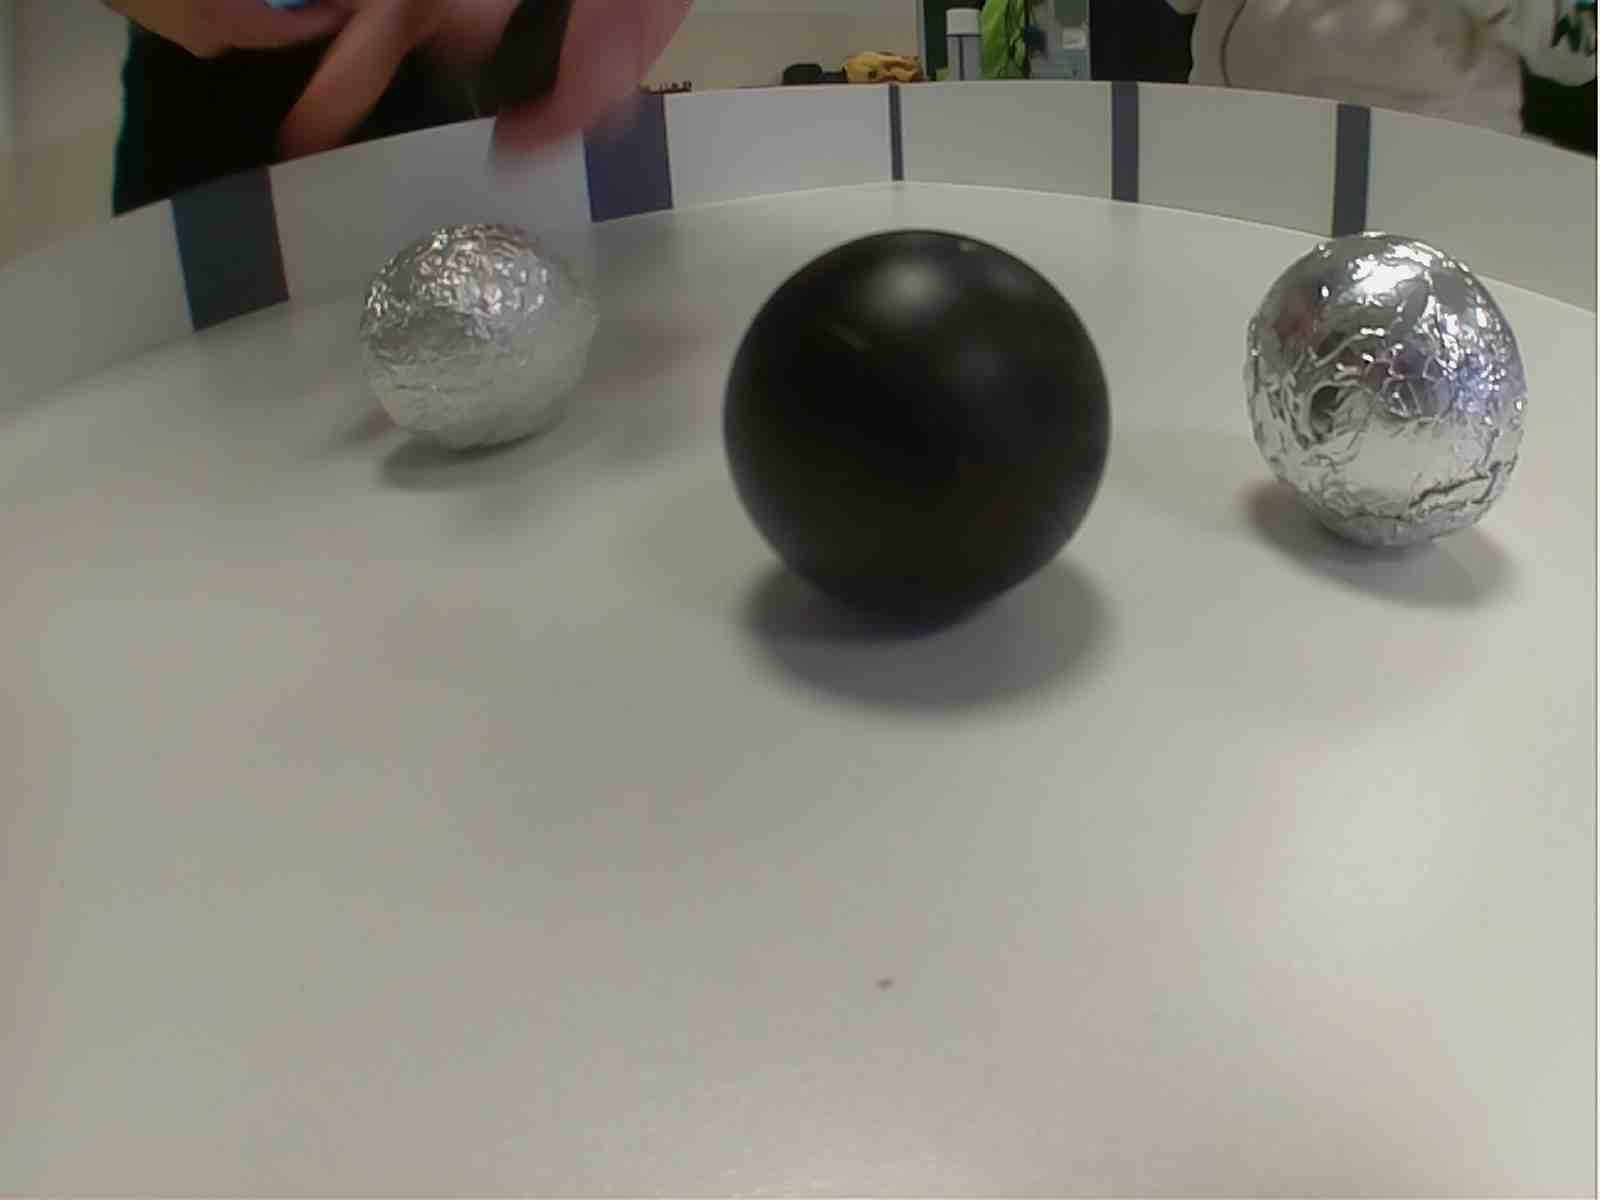bianca: (1233, 224, 1533, 570), (351, 217, 606, 451)
nera: (719, 224, 1120, 640)
